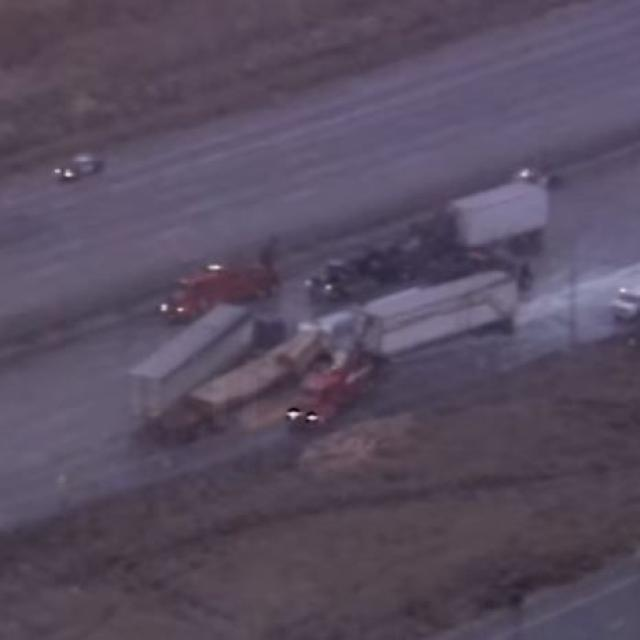traffic_incident: (137, 215, 533, 442)
